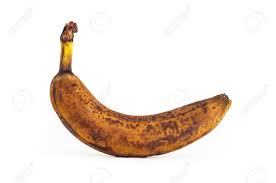looks_defective: (32, 17, 251, 183)
